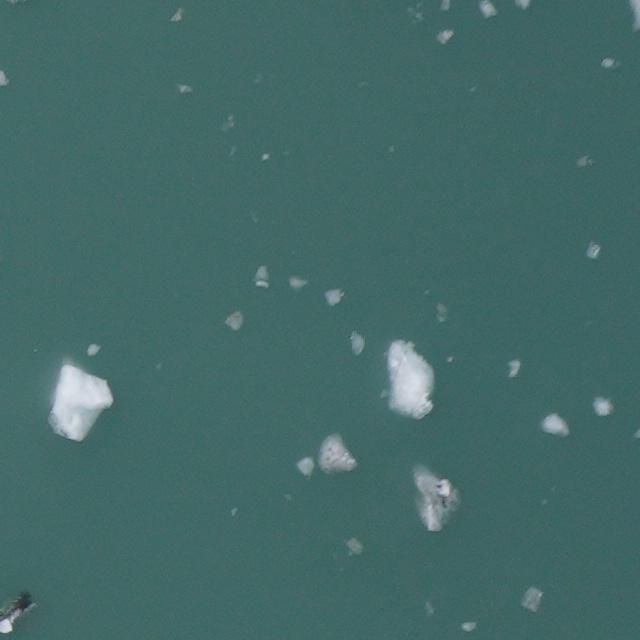seal: (0, 575, 61, 638)
